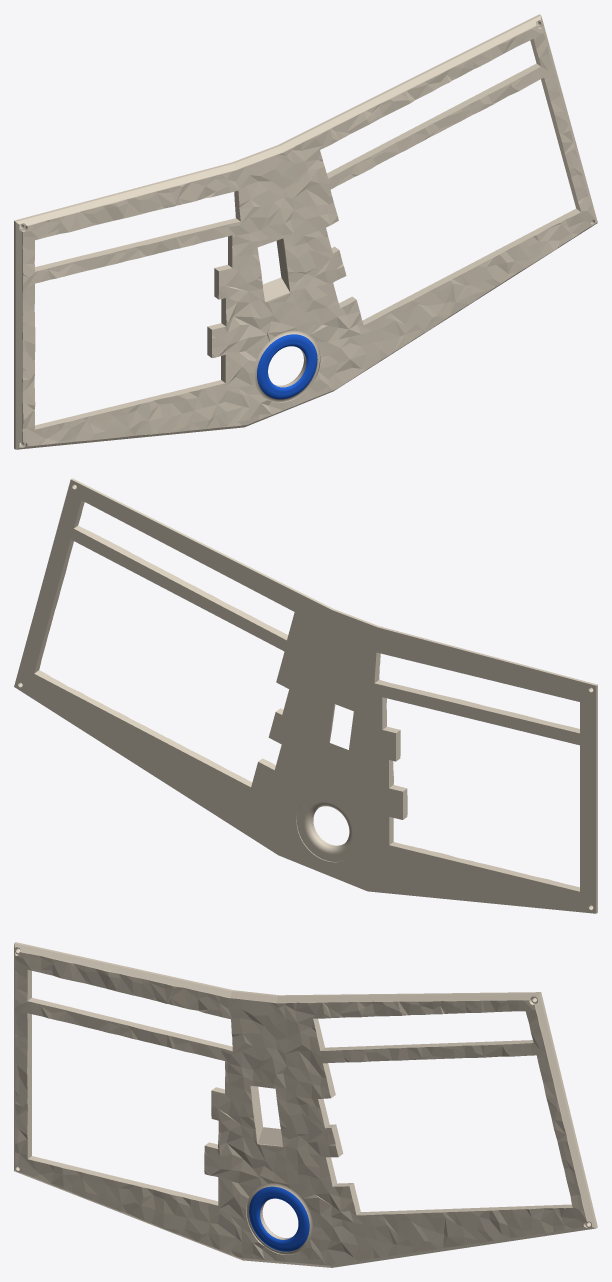
Rendered from topside.obj.
The picture shows the model from 3 angles, top to bottom: view 1: azimuth 30°, elevation 25°; view 2: azimuth 150°, elevation 25°; view 3: azimuth 330°, elevation 25°; orthographic projection.
Parts seen in each view (by area): view 1: Corpo2; view 2: Corpo2; view 3: Corpo2.
Part boxes in pixels (x1=…): Corpo2: x1=14, y1=14, x2=597, y2=449; Corpo2: x1=14, y1=478, x2=597, y2=913; Corpo2: x1=14, y1=942, x2=597, y2=1267.
Size of the model in its own units: 408 by 227 by 7.
